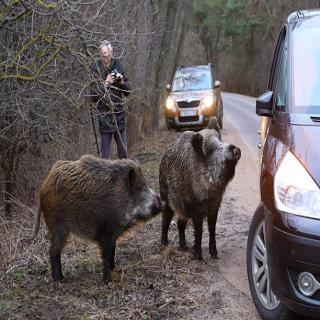Normal_vehicle: (246, 10, 320, 320), (164, 62, 223, 134)
